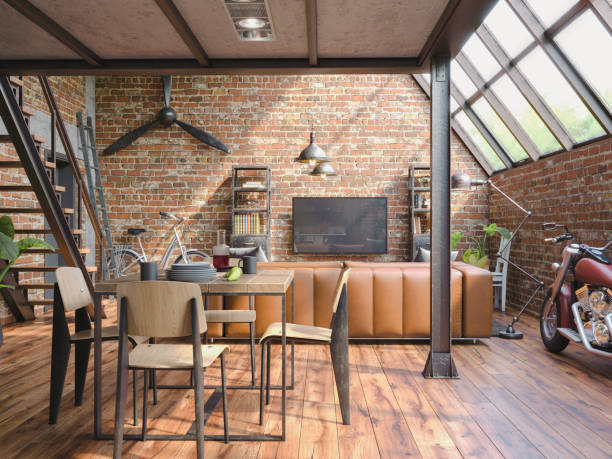TV: (289, 194, 391, 256)
dining table set: (46, 259, 356, 459)
floor lamp: (449, 169, 547, 344)
sofa: (192, 248, 495, 343)
